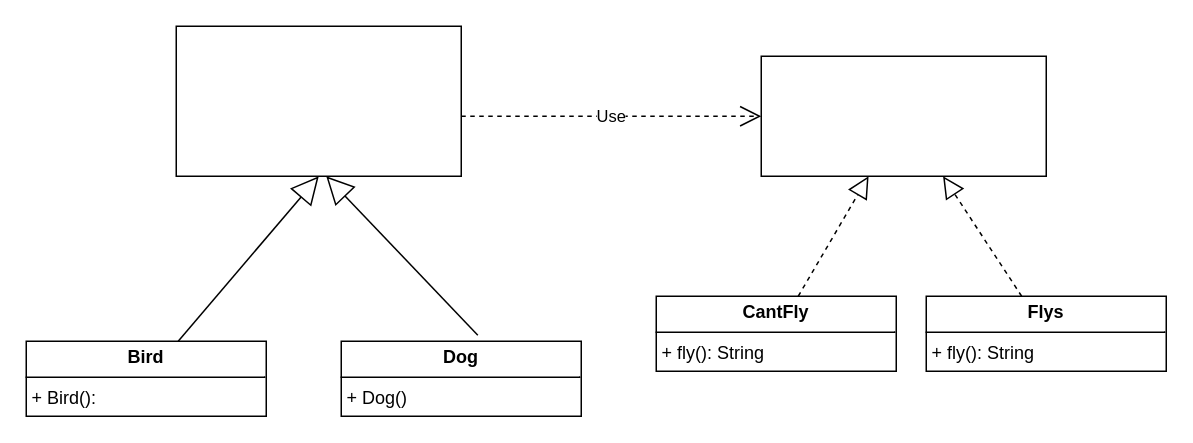
This 1193x443 diagram has some shape labels left out. Here are the shapes that lost their labels. From the top down, the box of each, then its label:
(175, 25, 461, 176): Animal + flyable: Flyable + fly(): String + setFlyable(Flyable): void
(760, 55, 1046, 176): <<Interface>> Flyable + fly(): String + setFlyable(Flyable): void
